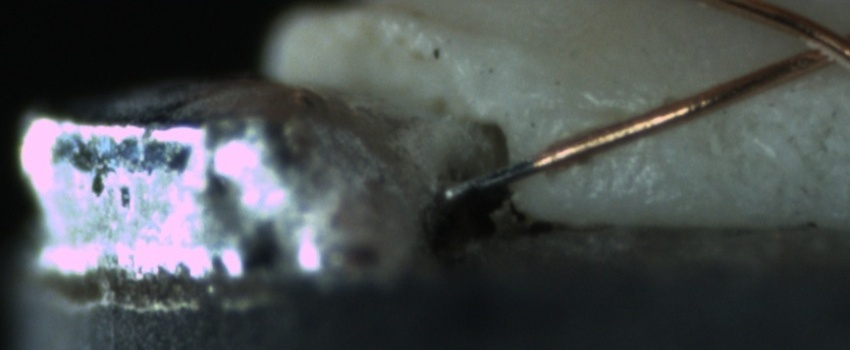CL: (790, 18, 849, 74)
DL: (539, 86, 662, 142)
TS: (432, 154, 540, 203)
TTCW: (429, 140, 580, 204)
